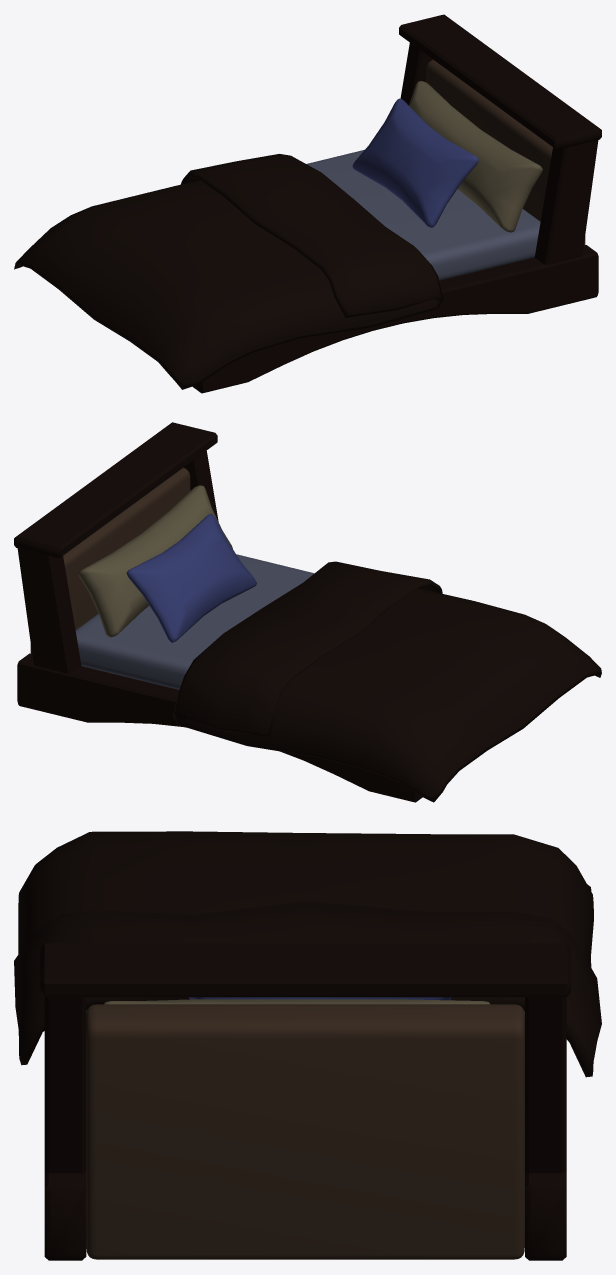
The model's file is h-006_bed_03_F.FBX.
The picture shows the model from 3 angles, top to bottom: view 1: azimuth 30°, elevation 25°; view 2: azimuth 150°, elevation 25°; view 3: azimuth 270°, elevation 25°; orthographic projection. The views are drawn at different scales.
Parts seen in each view (by area): view 1: h-006_bed_03; view 2: h-006_bed_03; view 3: h-006_bed_03.
Part boxes in pixels (x1,y1,x2,y2): h-006_bed_03: (14, 14, 601, 393); h-006_bed_03: (14, 422, 601, 802); h-006_bed_03: (14, 831, 601, 1260).
Bounding box in the file's own units: 39.87 × 15 × 28.16.
